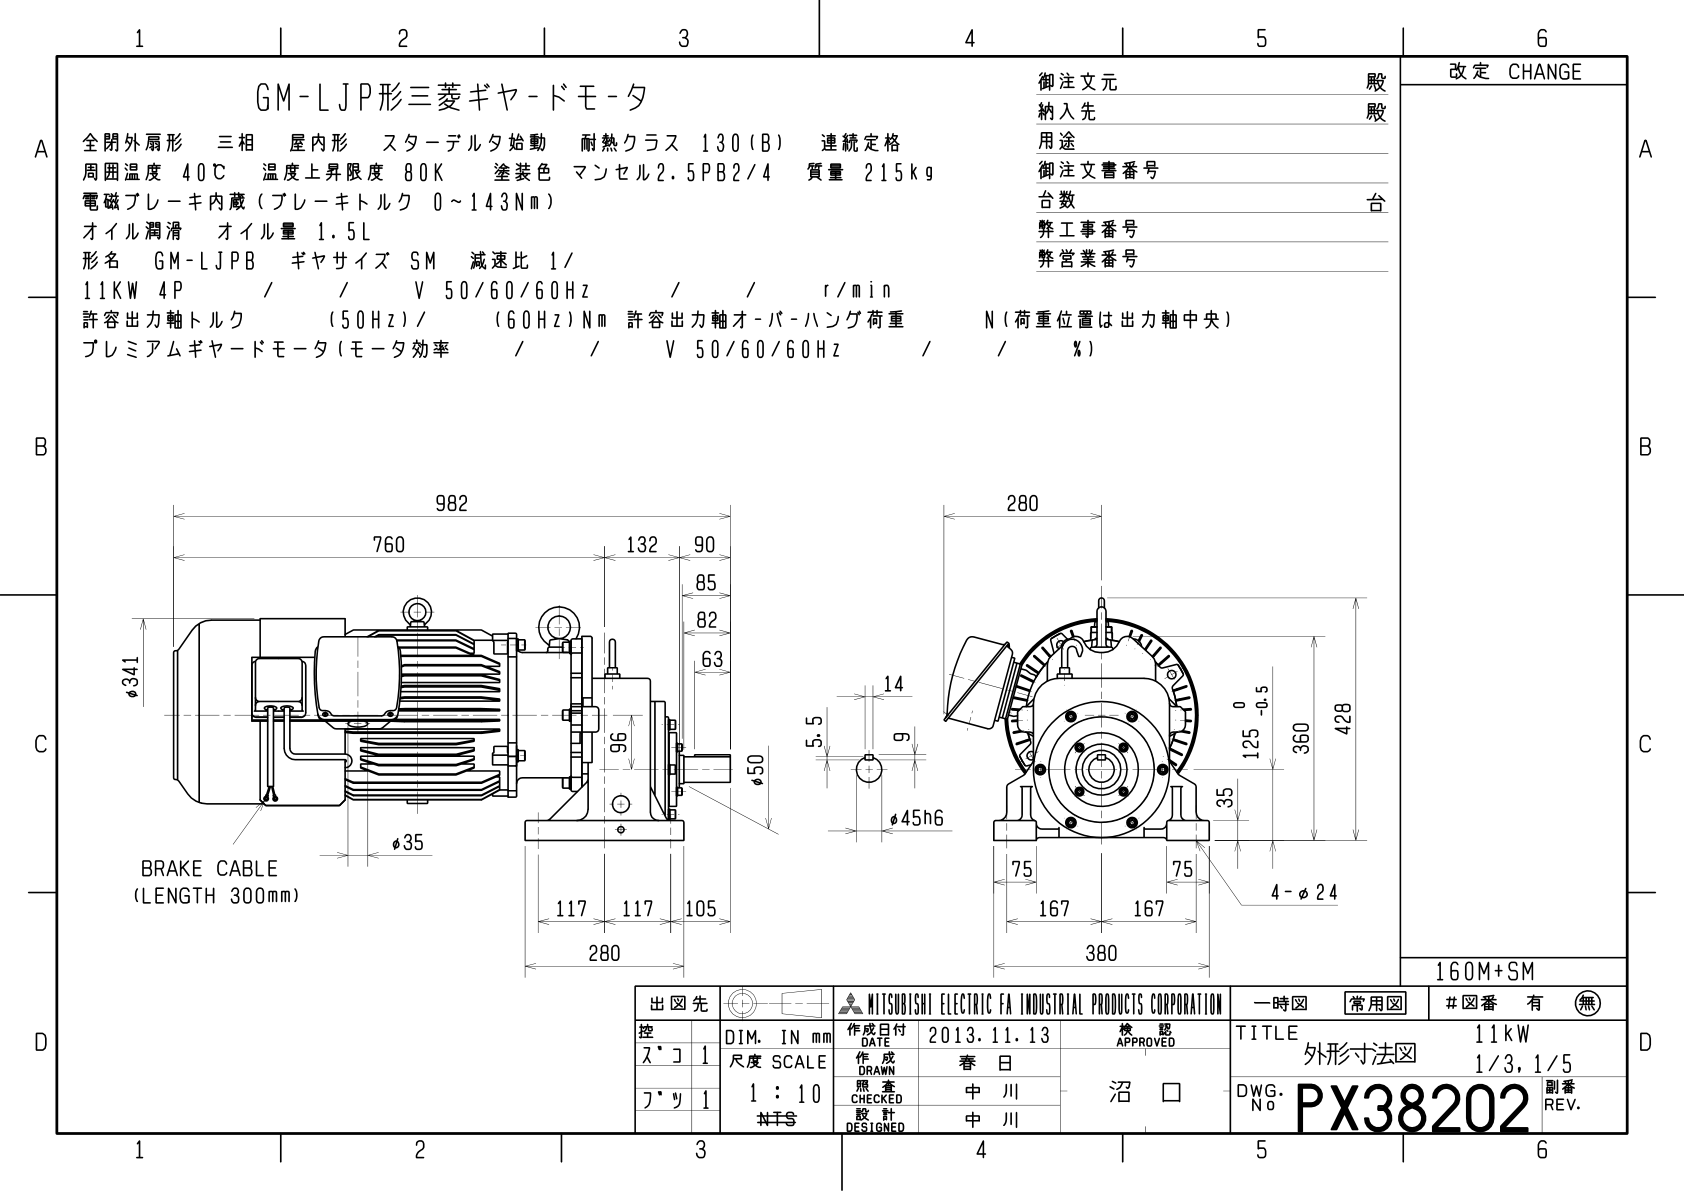GM_LJP_屋内_三相_脚: (17, 10, 1684, 1191)
